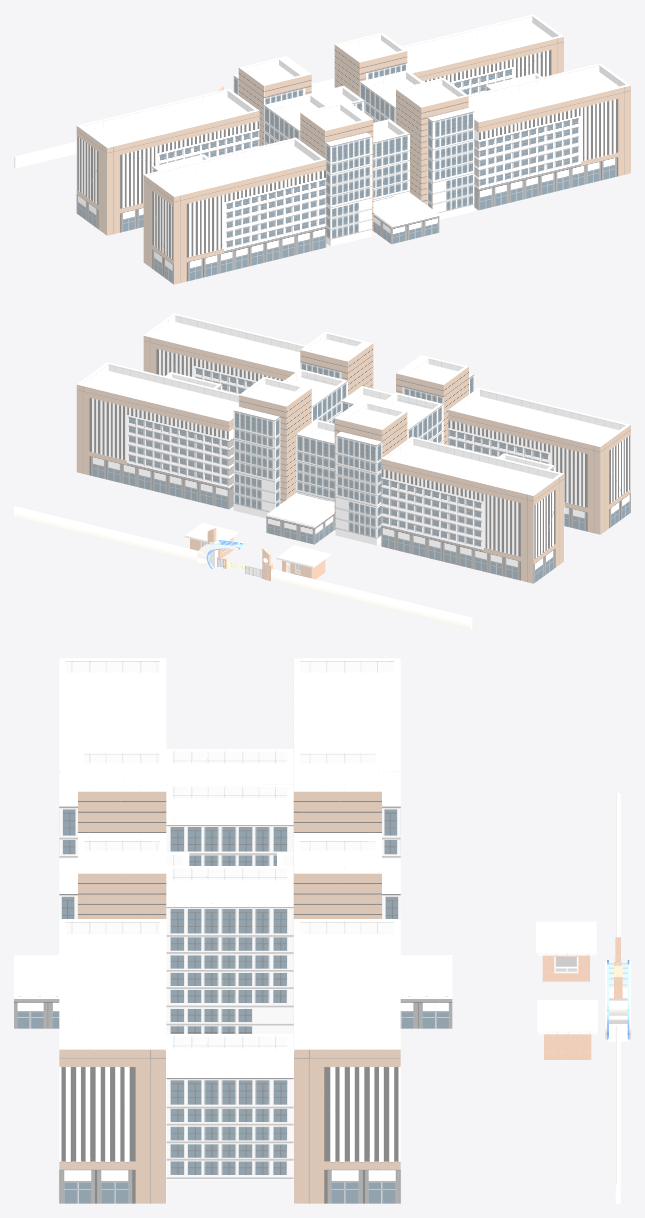
The model's file is School.glb.
3 renders of one model, top to bottom at view 1: azimuth 30°, elevation 25°; view 2: azimuth 150°, elevation 25°; view 3: azimuth 270°, elevation 25°, orthographic. The views are drawn at different scales.
Visible parts, largest first — view 1: School; view 2: School; view 3: School.
Part boxes in pixels (bbox=[...]): School: bbox=[14, 14, 630, 284]; School: bbox=[14, 313, 630, 629]; School: bbox=[14, 658, 630, 1203].
Size of the model in its own units: 90 by 21 by 60.
10 materials, 5 textured.
